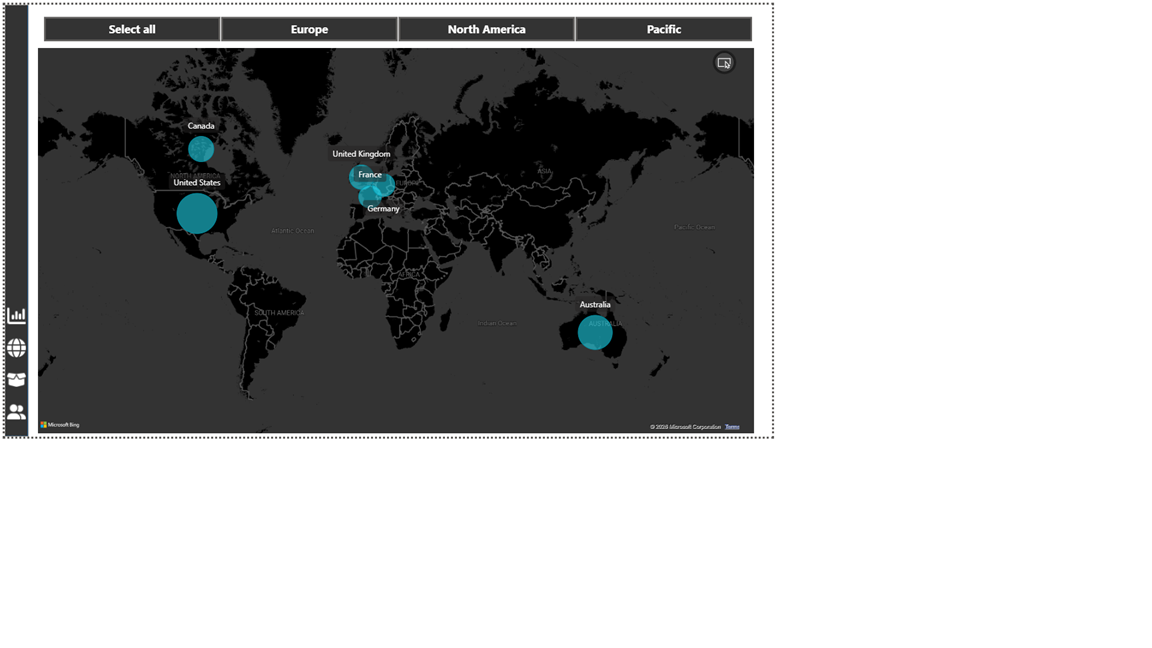

What the dashboard file says about the page in this screenshot:
{"tool":"powerbi","page":{"name":"Map","canvas":[1280,720],"ordinal":1},"visuals":[{"type":"shape","title":"Left nav","box":[0,0,39.2,719.6],"z":0},{"type":"actionButton","box":[0,498.8,39.4,40.3],"z":0,"group":"g1"},{"type":"map","fields":{"Category":["Territory Lookup.Country"],"Size":["Measure Table.Total Orders"]},"box":[50.1,67.2,1205.4,652.8],"z":1000},{"type":"actionButton","box":[0,551.9,39.4,40.3],"z":1000,"group":"g1"},{"type":"slicer","fields":{"Values":["Territory Lookup.Continent"]},"box":[39.4,12.5,1230.4,54.6],"z":2000},{"type":"actionButton","box":[0,605.1,39.4,40.3],"z":2000,"group":"g1"},{"type":"group","id":"g1","title":"Page navigation","box":[0,498.8,39.4,199.7],"z":3000},{"type":"actionButton","box":[0,658.2,39.4,40.3],"z":3000,"group":"g1"}]}

Visuals, with their boxes in screenshot pixels (x1, y1, x2, y2), scaled from the page's 1280x720 canvas onto the 1152x648 screenshot:
"Left nav" shape: [0, 0, 35, 647]
actionButton: [0, 449, 35, 485]
map - Territory Lookup.Country x Measure Table.Total Orders: [45, 60, 1130, 647]
actionButton: [0, 497, 35, 533]
slicer - Territory Lookup.Continent: [35, 11, 1143, 60]
actionButton: [0, 545, 35, 581]
"Page navigation" group: [0, 449, 35, 629]
actionButton: [0, 592, 35, 629]
